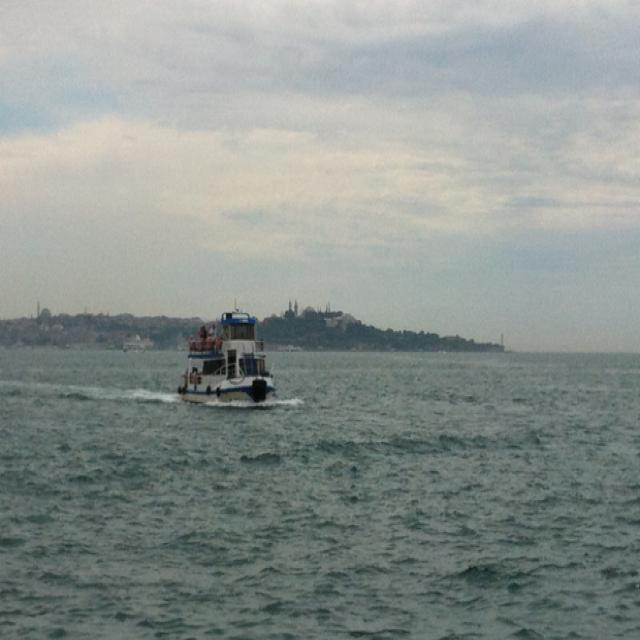fishing boat: (180, 308, 276, 406)
